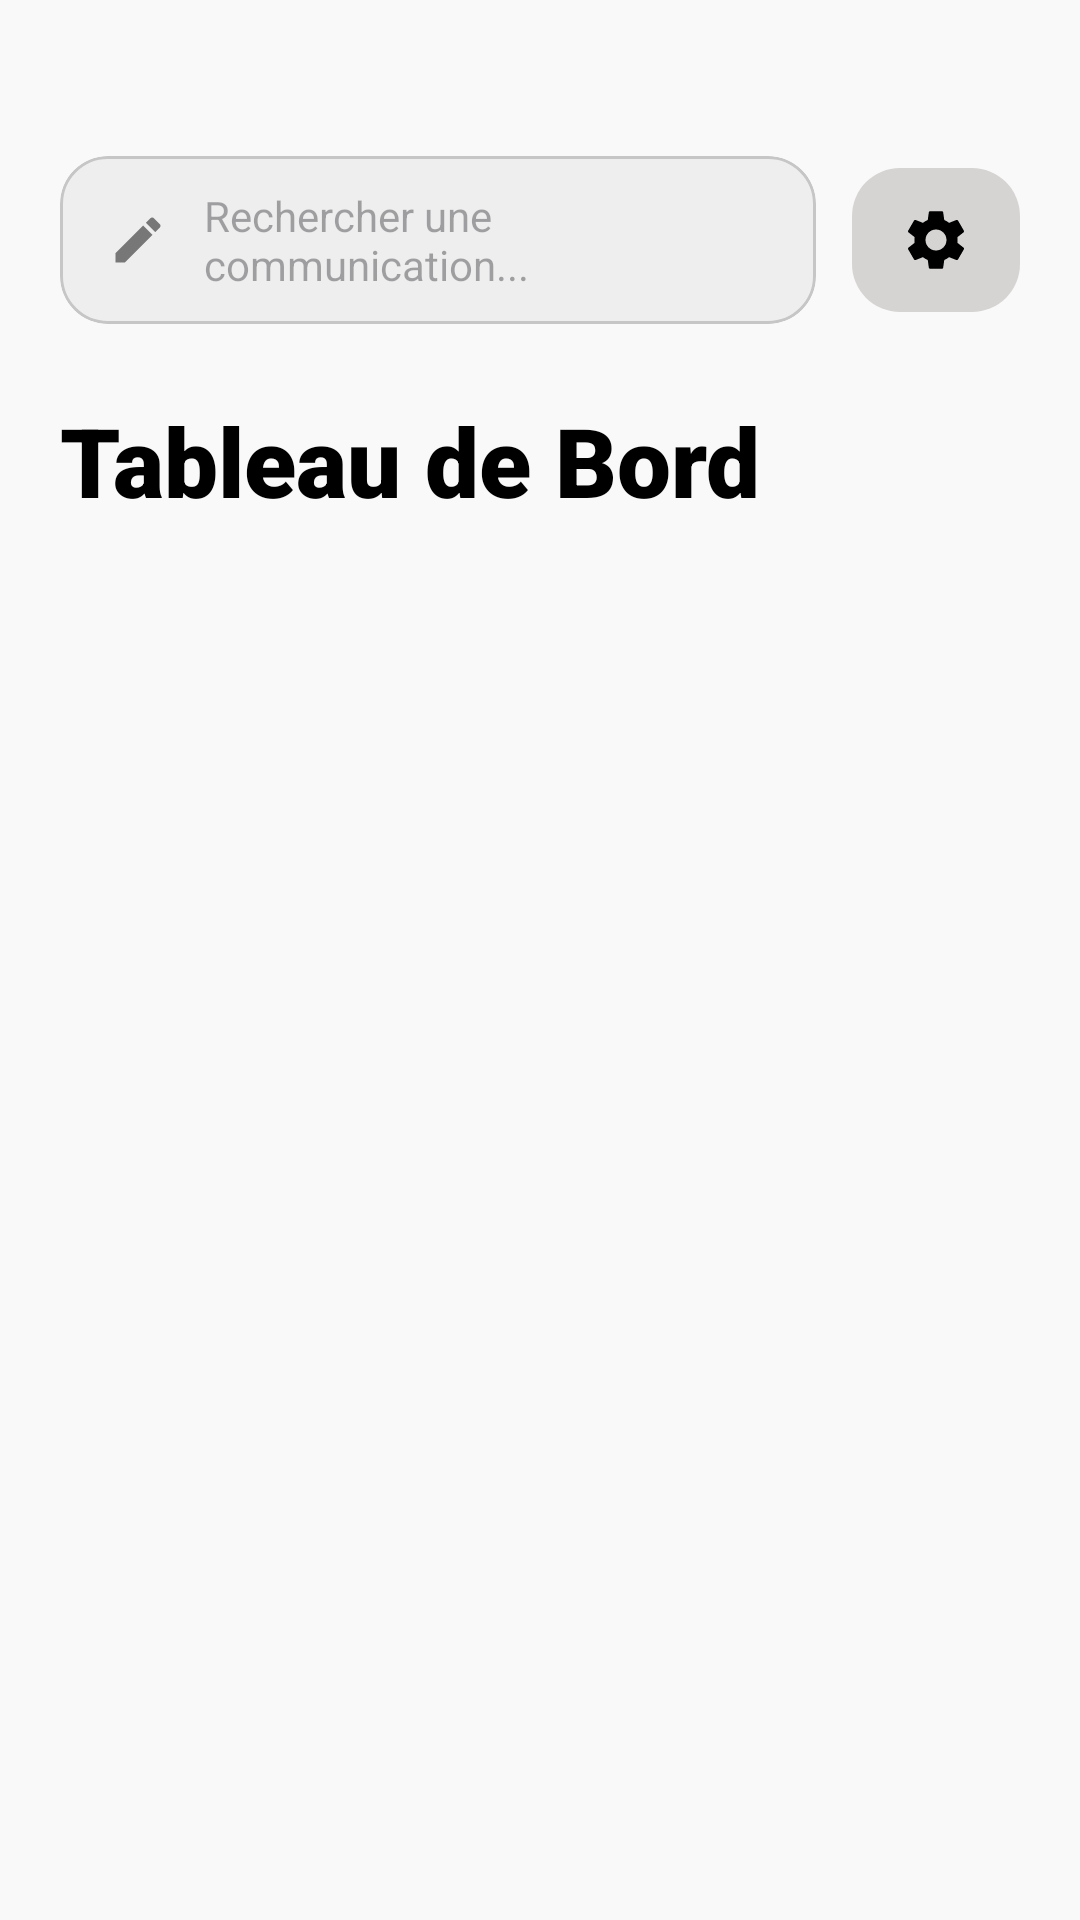

Named icons in this screenshot (1080 × 1920) and their bounding boxes, {"x1": x1, "y1": y1, "x2": x2, "y2": y2}:
edit: {"x1": 115, "y1": 217, "x2": 161, "y2": 263}
settings: {"x1": 852, "y1": 168, "x2": 1020, "y2": 312}
